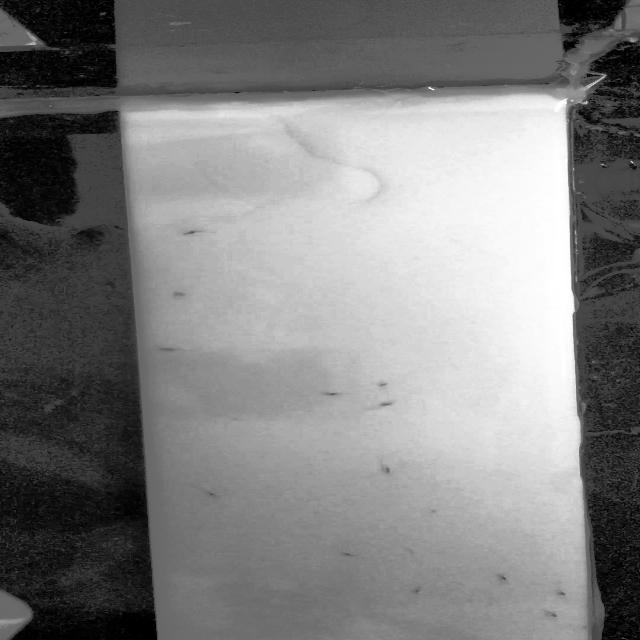shrimp: (304, 385, 348, 405), (328, 547, 374, 563), (189, 487, 231, 502), (374, 463, 404, 483), (405, 582, 434, 602), (372, 398, 404, 413), (491, 570, 518, 587), (172, 229, 211, 240), (359, 378, 399, 388), (154, 345, 189, 355), (544, 610, 572, 622), (553, 588, 574, 602)
